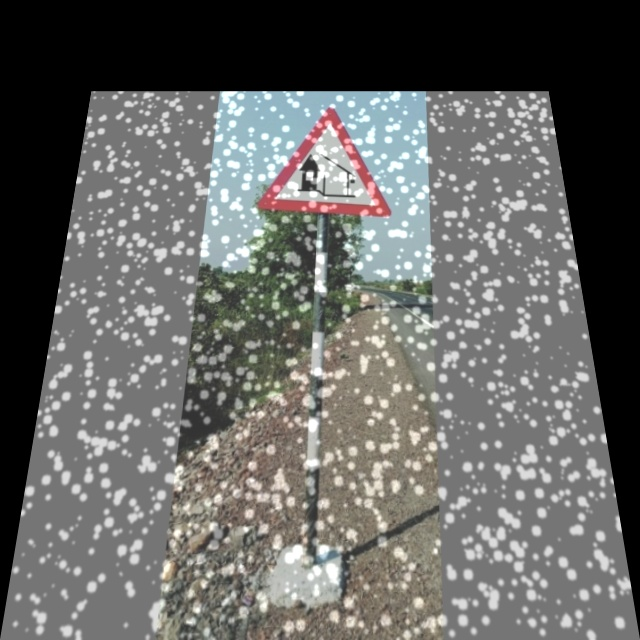Barrier_Ahead: (260, 106, 393, 214)
